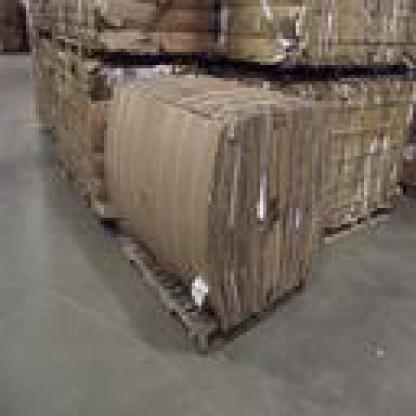CARDBOARD: (104, 68, 315, 322), (228, 65, 413, 231), (104, 84, 224, 312), (32, 39, 192, 192), (218, 0, 412, 68), (26, 0, 214, 55)
